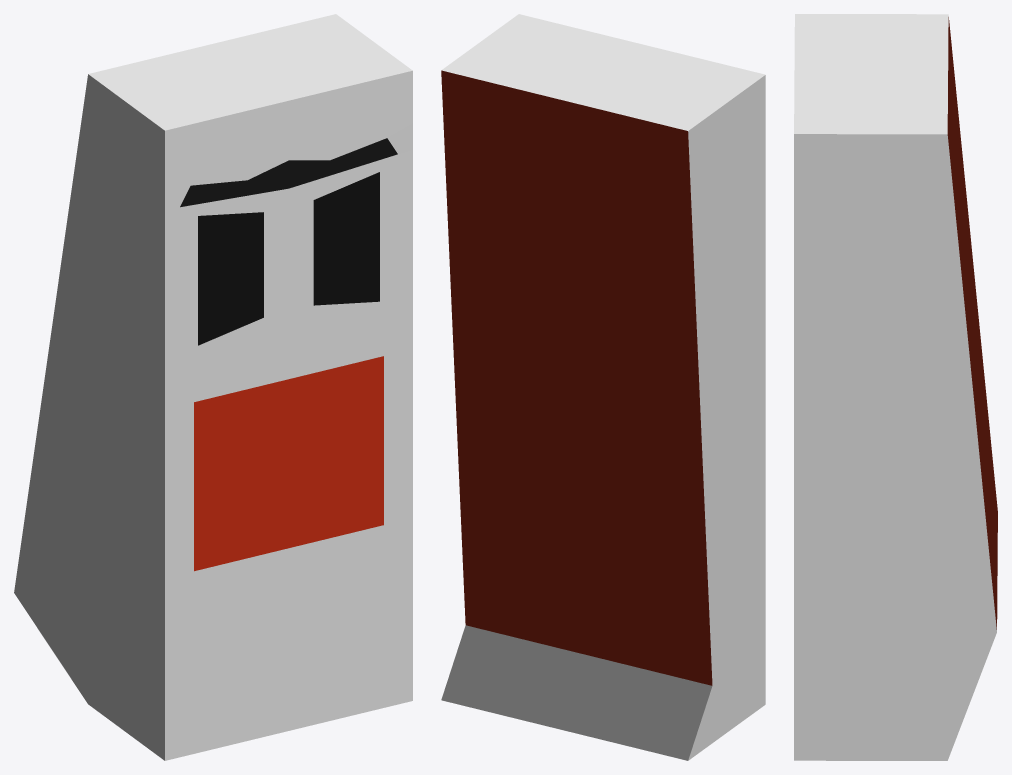
The picture shows the model from 3 angles, left to right: view 1: azimuth 30°, elevation 25°; view 2: azimuth 150°, elevation 25°; view 3: azimuth 270°, elevation 25°; orthographic projection.
Parts seen in each view (by area): view 1: Gus; view 2: Gus; view 3: Gus.
Part boxes in pixels (<box>): Gus: <box>14,14,412,760</box>; Gus: <box>441,14,765,760</box>; Gus: <box>794,14,997,760</box>.
Bounding box in the file's own units: 0.8869 × 1.8 × 0.531.
1 material, 1 textured.
